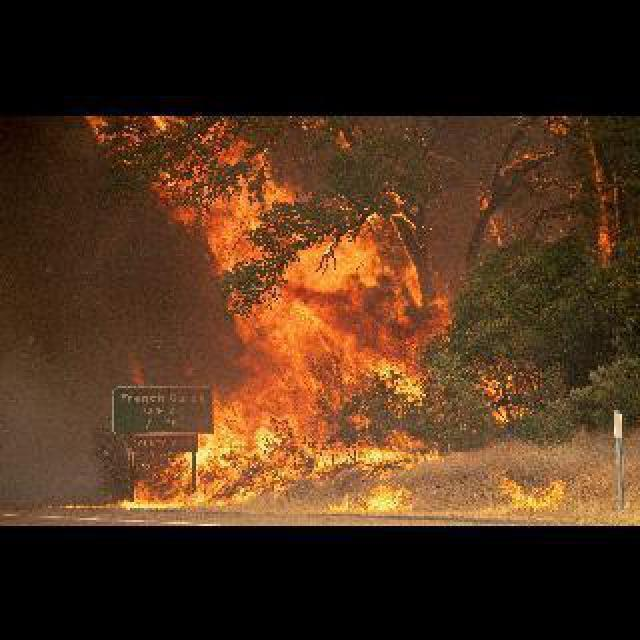fire: (95, 96, 568, 520)
